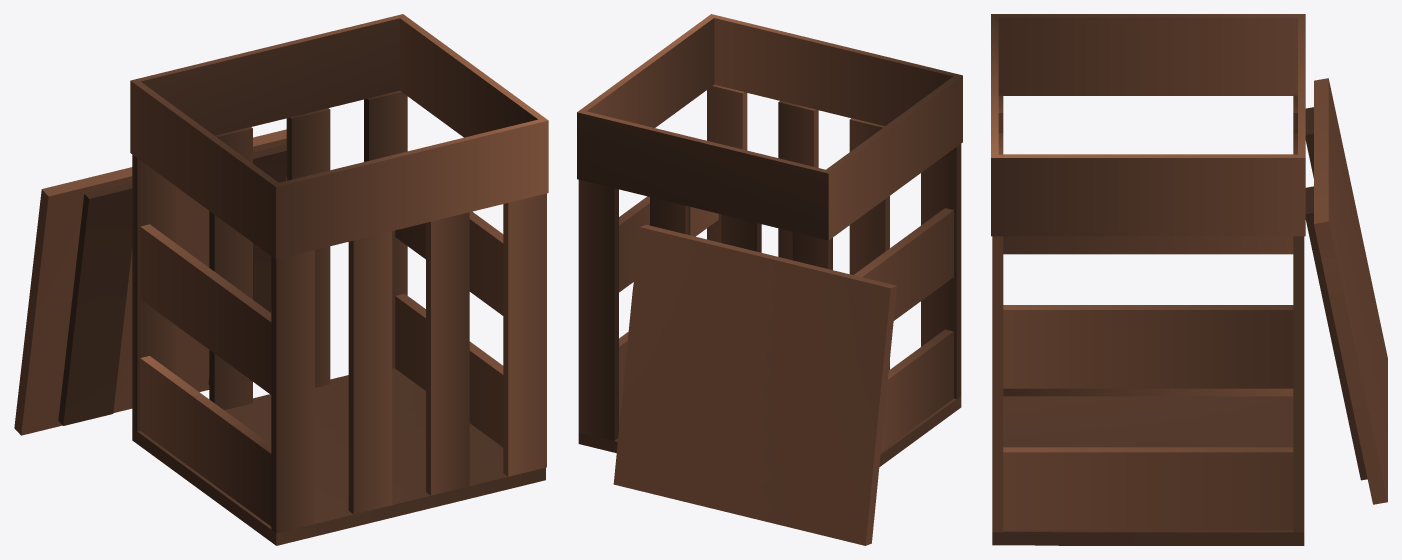
Rendered from Tall Cherry Crate Leaned Lid.fbx.
3 renders of one model, left to right at view 1: azimuth 30°, elevation 25°; view 2: azimuth 150°, elevation 25°; view 3: azimuth 270°, elevation 25°, orthographic. The views are drawn at different scales.
Visible parts, largest first — view 1: Tall Cherry Crate Leaned Lid; view 2: Tall Cherry Crate Leaned Lid; view 3: Tall Cherry Crate Leaned Lid.
Boxes of the visible parts, box(x1,y1,x2,y2) form: Tall Cherry Crate Leaned Lid: box(14, 14, 548, 545); Tall Cherry Crate Leaned Lid: box(577, 14, 962, 545); Tall Cherry Crate Leaned Lid: box(991, 14, 1387, 545).
Size of the model in its own units: 284 by 263 by 290.
Materials: 1 (1 with a texture image).
